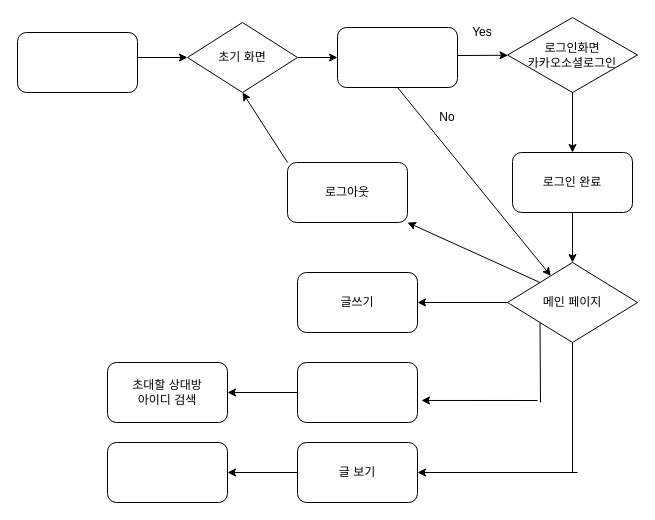
This 655x520 diagram has some shape labels left out. The box of each missing label's shape, as (x1, y1, x2, y2) in pixels:
1대1 채팅: (296, 362, 418, 422)
로그인: (336, 26, 458, 88)
추천,신고,댓글 등: (106, 442, 228, 502)
페이지 접속: (16, 32, 138, 92)
